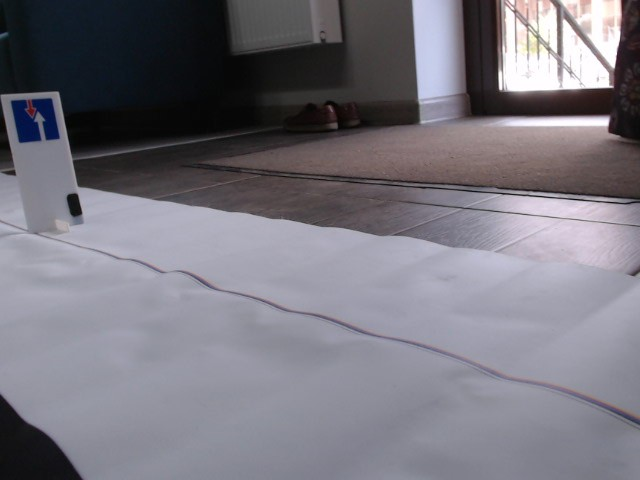priority_movement: (9, 98, 61, 142)
